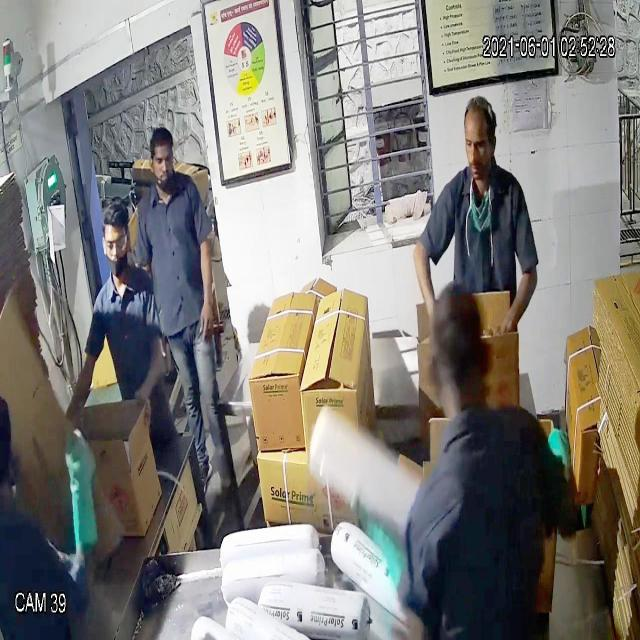glasses: (100, 224, 135, 262)
no-glass: (457, 128, 497, 163), (146, 149, 180, 175)
